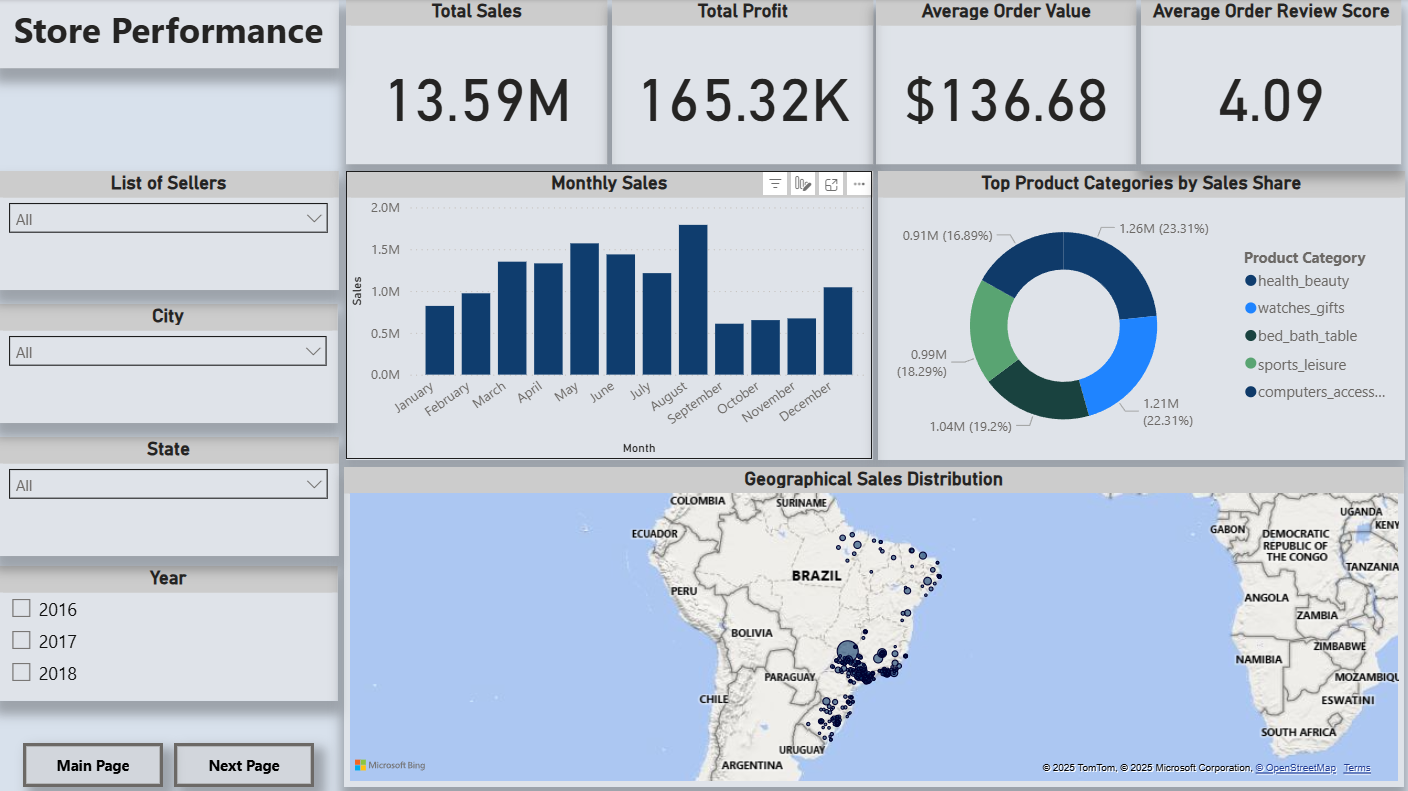

Layout of this report page (visuals, bound fields, positions):
{"tool":"powerbi","page":{"name":"Store Performance","canvas":[1280,720],"ordinal":2},"visuals":[{"type":"slicer","title":"Year","fields":{"Values":["DateTable.Year"]},"box":[0,514.5,308.3,121.6],"z":0},{"type":"slicer","title":"State","fields":{"Values":["olist_geolocation_dataset.State"]},"box":[0,396.8,309.3,108],"z":1000},{"type":"textbox","box":[0,0,309.3,63.2],"z":2000},{"type":"slicer","title":"City","fields":{"Values":["olist_geolocation_dataset.City"]},"box":[0,276.2,308.3,108],"z":3000},{"type":"slicer","title":"List of Sellers","fields":{"Values":["olist_sellers_dataset.seller_id"]},"box":[0,155.6,309.3,108],"z":4000},{"type":"card","title":"Total Sales","fields":{"Values":["olist_order_items_dataset.Total_Sales"]},"box":[315.1,0,237.3,149.8],"z":5000},{"type":"card","title":"Total Profit","fields":{"Values":["olist_order_items_dataset.Profit"]},"box":[556.4,0,237.3,149.8],"z":6000},{"type":"card","title":"Average Order Value","fields":{"Values":["olist_order_items_dataset.Average_Order_Value"]},"box":[796.6,0,236.4,149.8],"z":7000},{"type":"clusteredColumnChart","title":"Monthly Sales","fields":{"Category":["DateTable.Month"],"Y":["olist_order_items_dataset.Monthly_Sales"]},"box":[315.1,155.6,477.6,261.6],"z":8000},{"type":"donutChart","title":"Top Product Categories by Sales Share","fields":{"Category":["product_category_name_translation.category_en"],"Y":["olist_order_items_dataset.Total_Sales"]},"box":[797.6,155.6,477.6,261.6],"z":9000},{"type":"card","title":"Average Order Review Score","fields":{"Values":["olist_order_reviews_dataset.Average_Review_Score"]},"box":[1036.8,0,236.4,149.8],"z":10000},{"type":"map","title":"Geographical Sales Distribution","fields":{"Category":["olist_geolocation_dataset.City"],"Y":["Avg(olist_geolocation_dataset.geolocation_lat)"],"X":["Avg(olist_geolocation_dataset.geolocation_lng)"],"Size":["olist_order_items_dataset.Total_Sales"]},"box":[314.2,424.1,961,289.8],"z":11000},{"type":"actionButton","box":[22.7,674.7,127,39.9],"z":12000},{"type":"actionButton","box":[159.6,674.7,127,39.9],"z":13000}]}

Visuals, with their boxes in screenshot pixels (x1, y1, x2, y2), scaled from the page's 1280x720 canvas onto the 1408x791 screenshot:
"Year" slicer: left=0, top=565, right=339, bottom=699
"State" slicer: left=0, top=436, right=340, bottom=555
textbox: left=0, top=0, right=340, bottom=69
"City" slicer: left=0, top=303, right=339, bottom=422
"List of Sellers" slicer: left=0, top=171, right=340, bottom=290
"Total Sales" card: left=347, top=0, right=608, bottom=165
"Total Profit" card: left=612, top=0, right=873, bottom=165
"Average Order Value" card: left=876, top=0, right=1136, bottom=165
"Monthly Sales" clusteredColumnChart: left=347, top=171, right=872, bottom=458
"Top Product Categories by Sales Share" donutChart: left=877, top=171, right=1403, bottom=458
"Average Order Review Score" card: left=1140, top=0, right=1401, bottom=165
"Geographical Sales Distribution" map: left=346, top=466, right=1403, bottom=784
actionButton: left=25, top=741, right=165, bottom=785
actionButton: left=176, top=741, right=315, bottom=785
